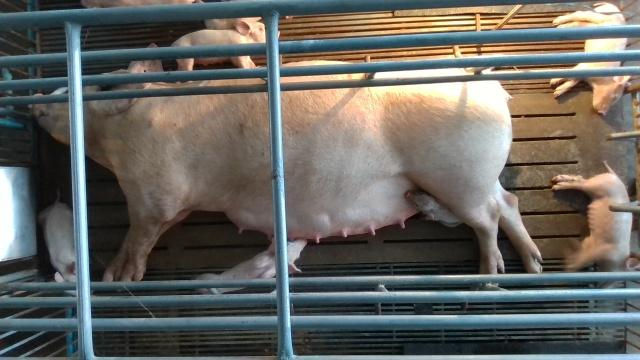piglet: (552, 159, 640, 289), (551, 1, 631, 117), (193, 239, 307, 293), (172, 20, 280, 71), (37, 188, 77, 283), (404, 190, 465, 227)
sow-sleep-lactate: (27, 38, 546, 274)
